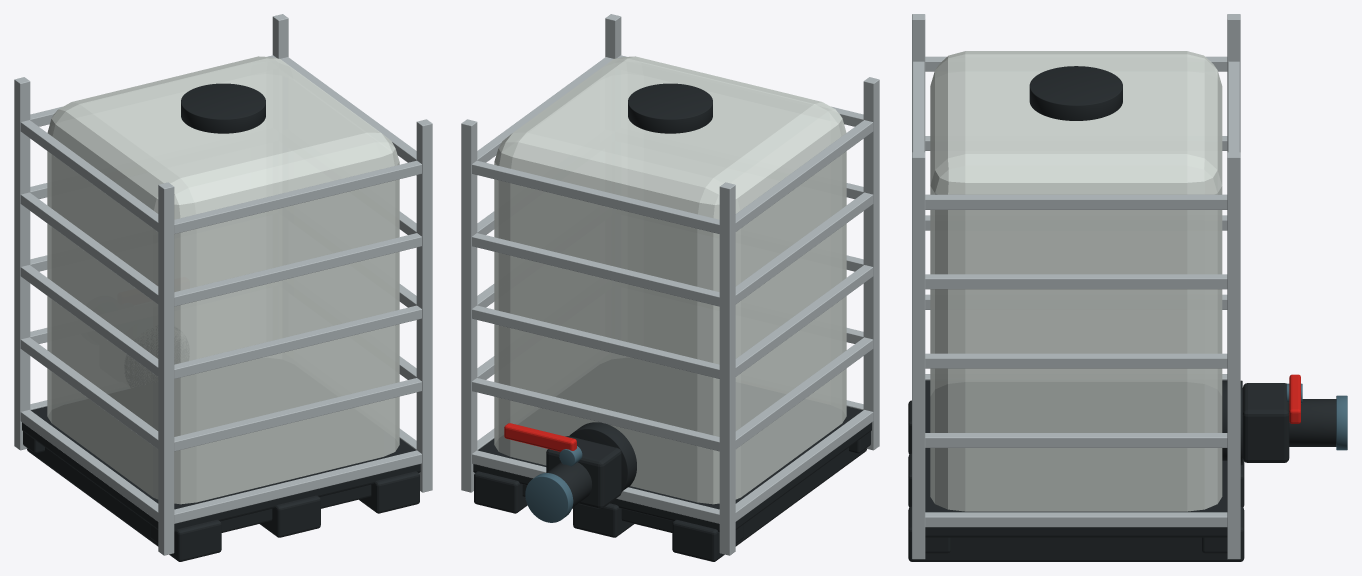
The model's file is ibc_tote.glb.
3 views of the same model, side by side, from view 1: azimuth 30°, elevation 25°; view 2: azimuth 150°, elevation 25°; view 3: azimuth 270°, elevation 25° (orthographic). The views are drawn at different scales.
Parts seen in each view (by area): view 1: IBC_tank, IBC_cage_post_-0.56_-0.54, IBC_cage_post_0.56_-0.54, IBC_cage_post_-0.56_0.54, IBC_pallet_deck, IBC_cage_x_0.78_-0.54, IBC_cage_x_1.08_-0.54, IBC_cage_x_0.18_-0.54, IBC_cage_x_0.48_-0.54, IBC_cage_x_1.38_-0.54, IBC_fill_cap, IBC_pallet_runner_-0.43 (+10 smaller); view 2: IBC_tank, IBC_cage_post_-0.56_0.54, IBC_cage_post_0.56_0.54, IBC_cage_post_-0.56_-0.54, IBC_cage_x_0.78_0.54, IBC_cage_x_1.08_0.54, IBC_cage_x_0.48_0.54, IBC_cage_x_1.38_0.54, IBC_fill_cap, IBC_pallet_deck, IBC_pallet_runner_-0.43, IBC_cage_y_1.08_-0.56 (+15 smaller); view 3: IBC_tank, IBC_pallet_runner_0.43, IBC_cage_post_0.56_0.54, IBC_cage_post_0.56_-0.54, IBC_pallet_deck, IBC_cage_y_0.18_0.56, IBC_cage_y_0.78_0.56, IBC_cage_y_1.08_0.56, IBC_cage_y_1.38_0.56, IBC_cage_y_0.48_0.56, IBC_fill_cap, IBC_valve_body (+8 smaller).
Boxes of the visible parts, x1,y1,x2,y2 form: IBC_tank: (47,56,399,504); IBC_cage_post_-0.56_-0.54: (158,182,174,555); IBC_cage_post_0.56_-0.54: (416,119,432,492); IBC_cage_post_-0.56_0.54: (14,77,30,450); IBC_pallet_deck: (22,406,420,532); IBC_cage_x_0.78_-0.54: (174,305,421,378); IBC_cage_x_1.08_-0.54: (174,233,421,306); IBC_cage_x_0.18_-0.54: (174,450,421,523); IBC_cage_x_0.48_-0.54: (174,378,421,451); IBC_cage_x_1.38_-0.54: (174,160,421,233); IBC_fill_cap: (181,83,265,133); IBC_pallet_runner_-0.43: (27,447,221,561); IBC_tank: (494,56,846,504); IBC_cage_post_-0.56_0.54: (719,182,735,555); IBC_cage_post_0.56_0.54: (461,119,477,492); IBC_cage_post_-0.56_-0.54: (863,77,879,450); IBC_cage_x_0.78_0.54: (472,305,719,378); IBC_cage_x_1.08_0.54: (472,233,719,306); IBC_cage_x_0.48_0.54: (472,378,719,451); IBC_cage_x_1.38_0.54: (472,160,719,233); IBC_fill_cap: (628,83,712,133); IBC_pallet_deck: (473,406,871,532); IBC_pallet_runner_-0.43: (672,447,866,561); IBC_cage_y_1.08_-0.56: (735,192,873,304); IBC_tank: (930,51,1222,511); IBC_pallet_runner_0.43: (908,506,1244,561); IBC_cage_post_0.56_0.54: (1227,152,1240,559); IBC_cage_post_0.56_-0.54: (912,152,925,559); IBC_pallet_deck: (925,380,1227,537); IBC_cage_y_0.18_0.56: (925,512,1227,527); IBC_cage_y_0.78_0.56: (925,353,1227,368); IBC_cage_y_1.08_0.56: (925,274,1227,289); IBC_cage_y_1.38_0.56: (925,194,1227,209); IBC_cage_y_0.48_0.56: (925,433,1227,447); IBC_fill_cap: (1029,66,1122,120); IBC_valve_body: (1242,383,1289,462).
Bounding box in the file's own units: 1.17 × 1.56 × 1.5.
